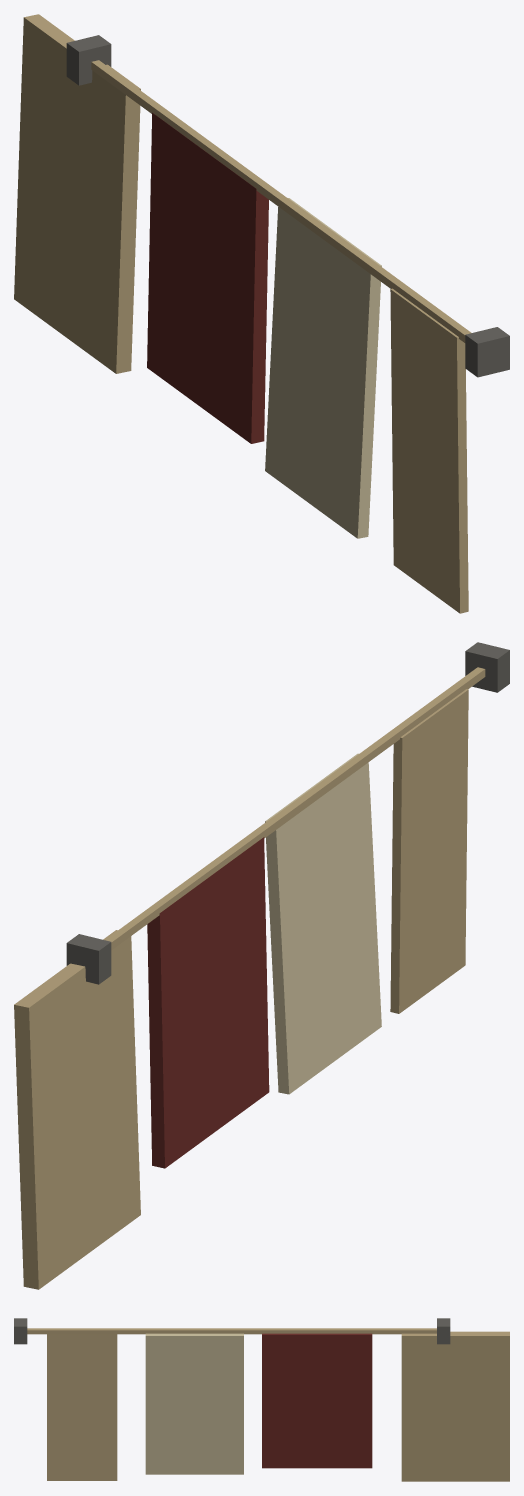
Rendered from laundry.glb.
3 views of the same model, one above another, from view 1: azimuth 30°, elevation 25°; view 2: azimuth 150°, elevation 25°; view 3: azimuth 270°, elevation 25° (orthographic). The views are drawn at different scales.
Visible parts, largest first — view 1: Laundry; view 2: Laundry; view 3: Laundry.
Part boxes in pixels (<box>): Laundry: <box>14,14,509,613</box>; Laundry: <box>14,642,509,1289</box>; Laundry: <box>14,1318,509,1481</box>.
Bounding box in the file's own units: 0.06 × 0.5315 × 1.51.
